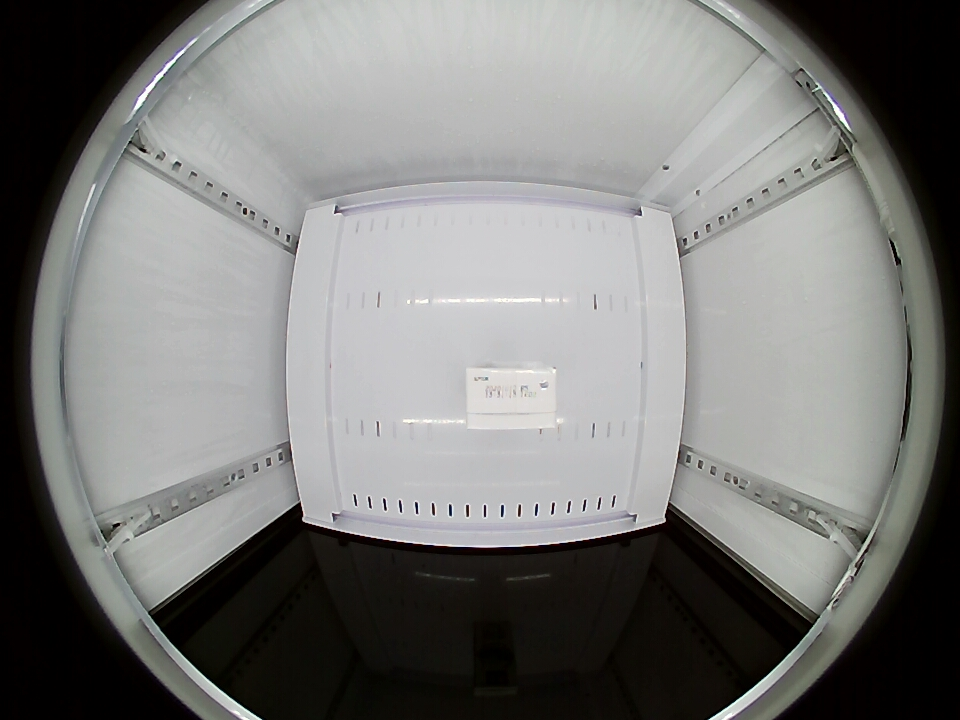jindian: (466, 364, 558, 421)
